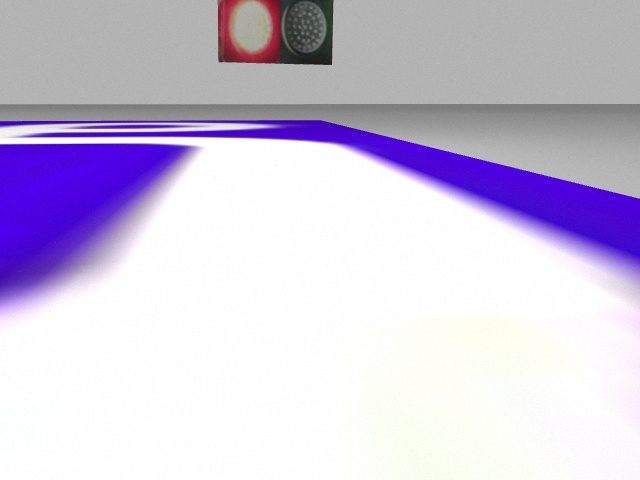red: (219, 1, 280, 60)
